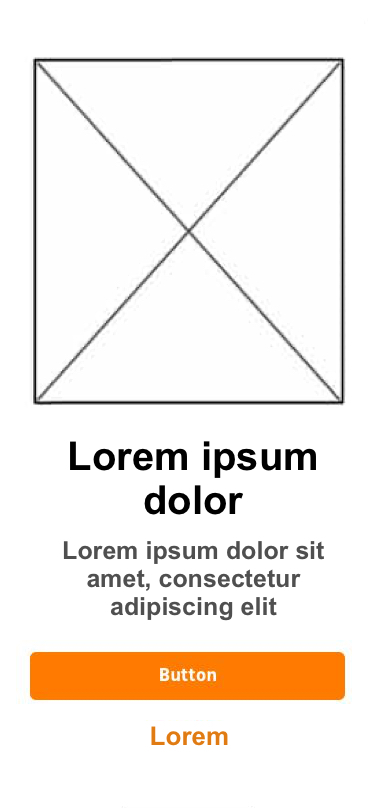Image: (32, 58, 346, 406)
Text: (63, 540, 325, 622), (69, 441, 317, 516), (151, 725, 229, 746)
TextButton: (30, 651, 346, 701)
